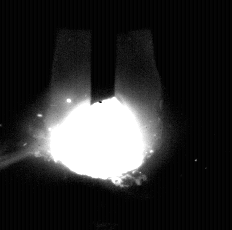arame: (91, 0, 117, 104)
poca: (45, 0, 163, 230)
